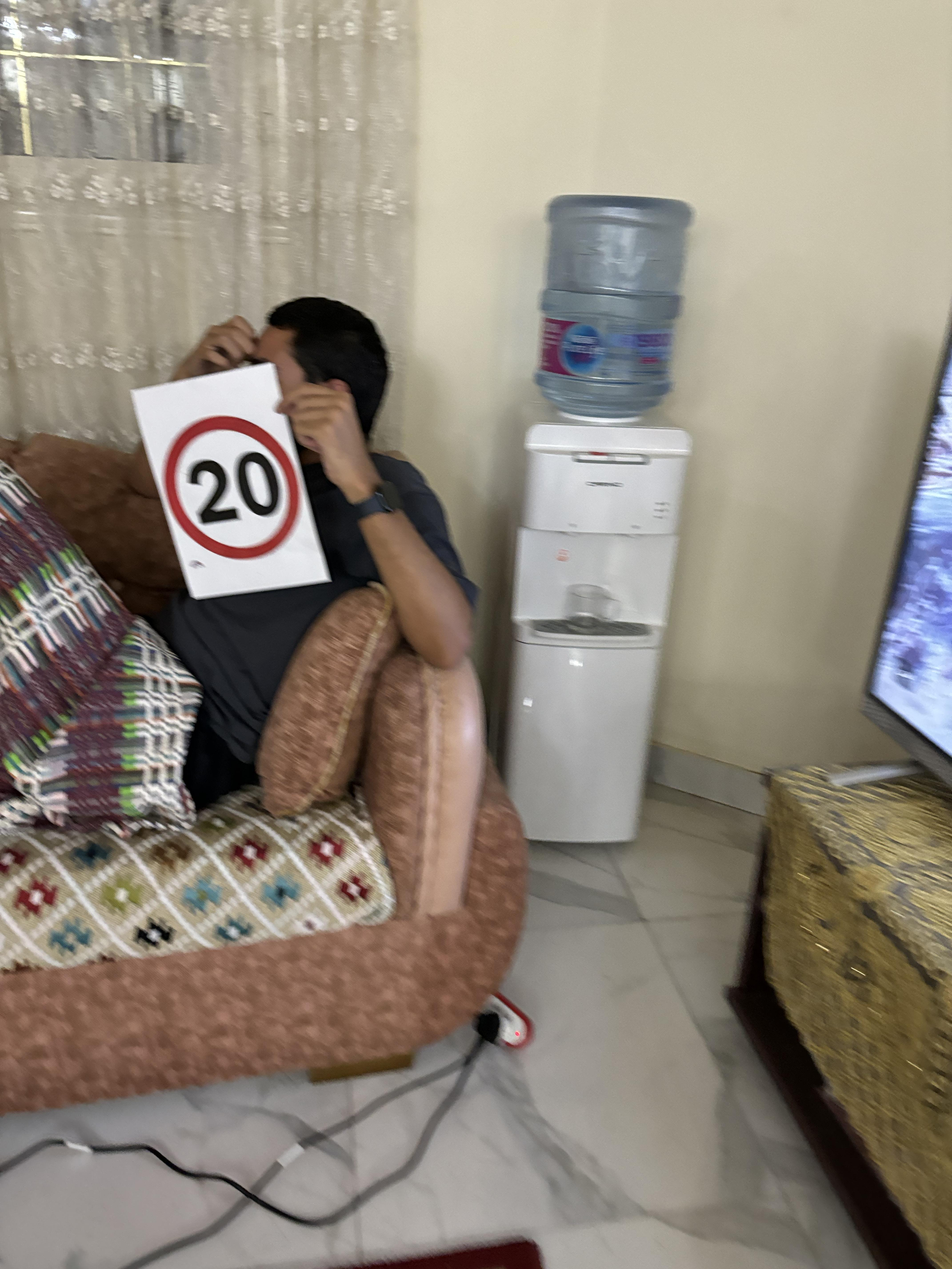20-Speed: (158, 418, 306, 563)
